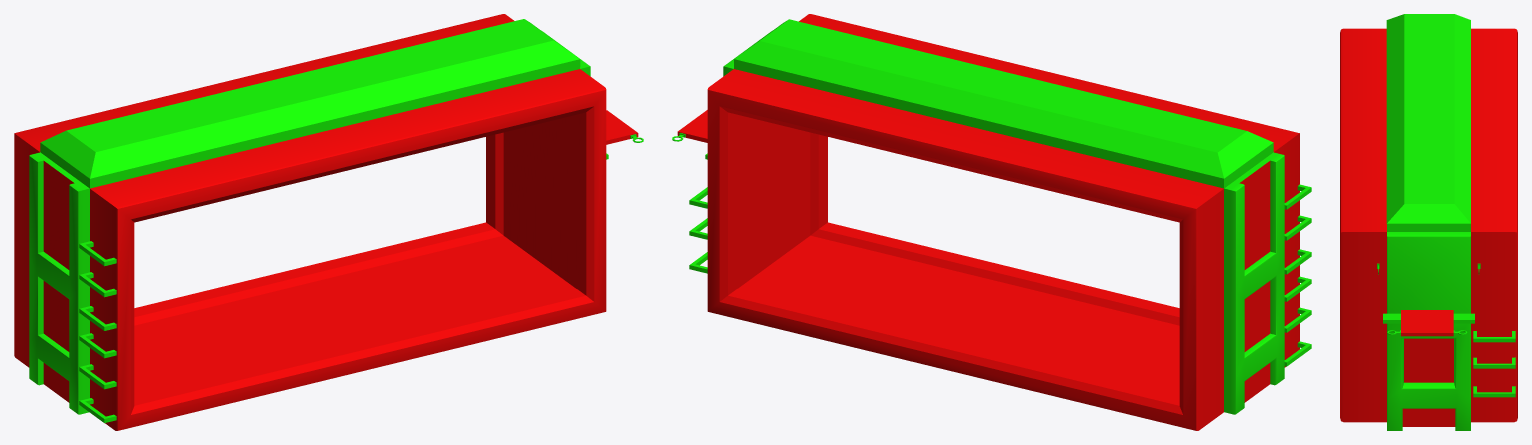
Rendered from SM_Wagon_Ext_1.fbx.
3 views of the same model, side by side, from view 1: azimuth 30°, elevation 25°; view 2: azimuth 150°, elevation 25°; view 3: azimuth 270°, elevation 25° (orthographic). The views are drawn at different scales.
Visible parts, largest first — view 1: Wagon_Exterior_1; view 2: Wagon_Exterior_1; view 3: Wagon_Exterior_1.
Boxes of the visible parts, bbox=[...] form: Wagon_Exterior_1: bbox=[14, 14, 643, 430]; Wagon_Exterior_1: bbox=[672, 14, 1311, 430]; Wagon_Exterior_1: bbox=[1340, 14, 1517, 430].
Size of the model in its own units: 510 by 213 by 162.
